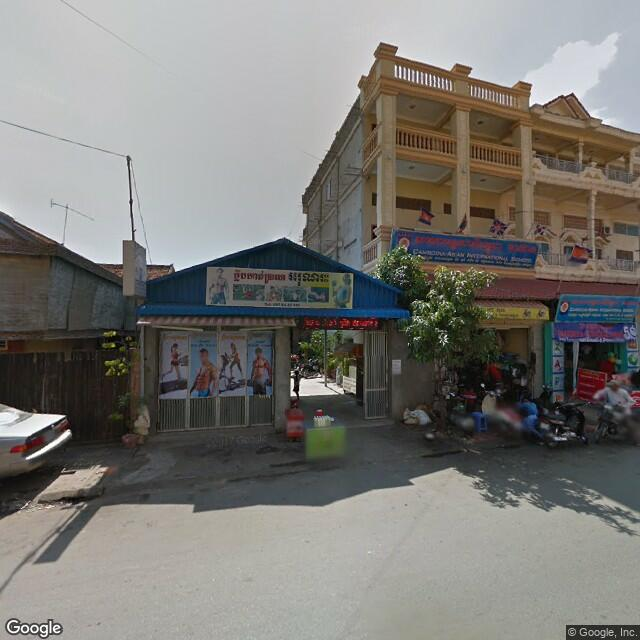litter: (10, 499, 34, 513), (45, 498, 66, 514)
